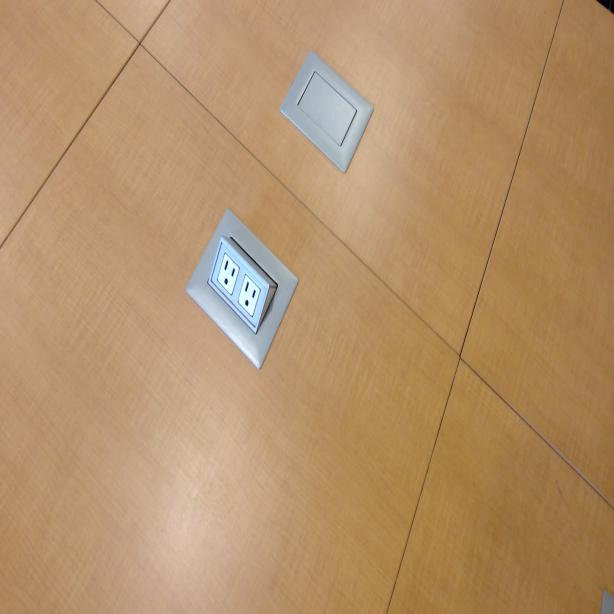typeb: (217, 252, 239, 294), (240, 276, 258, 316)
